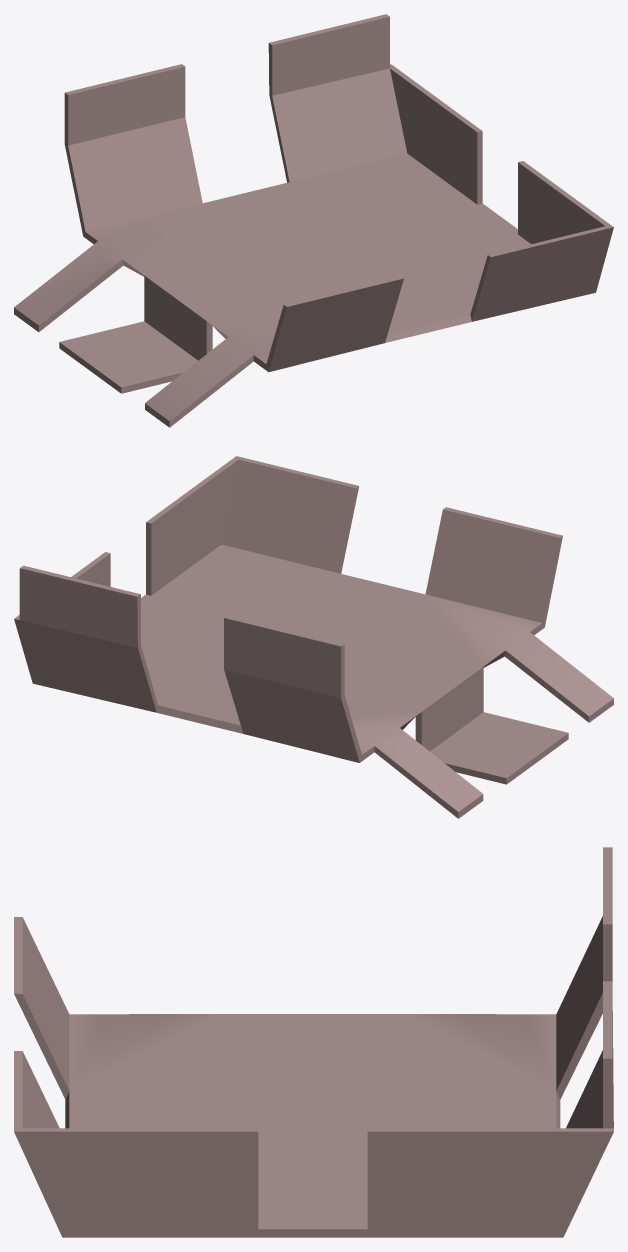
The model's file is Room_2_LP.fbx.
3 views of the same model, one above another, from view 1: azimuth 30°, elevation 25°; view 2: azimuth 150°, elevation 25°; view 3: azimuth 270°, elevation 25° (orthographic). The views are drawn at different scales.
Visible parts, largest first — view 1: pCube12; view 2: pCube12; view 3: pCube12.
Part boxes in pixels (x1,y1,x2,y2): pCube12: (14,14,613,427); pCube12: (14,456,613,818); pCube12: (14,847,613,1237).
Bounding box in the file's own units: 2935 × 1201 × 2745.
